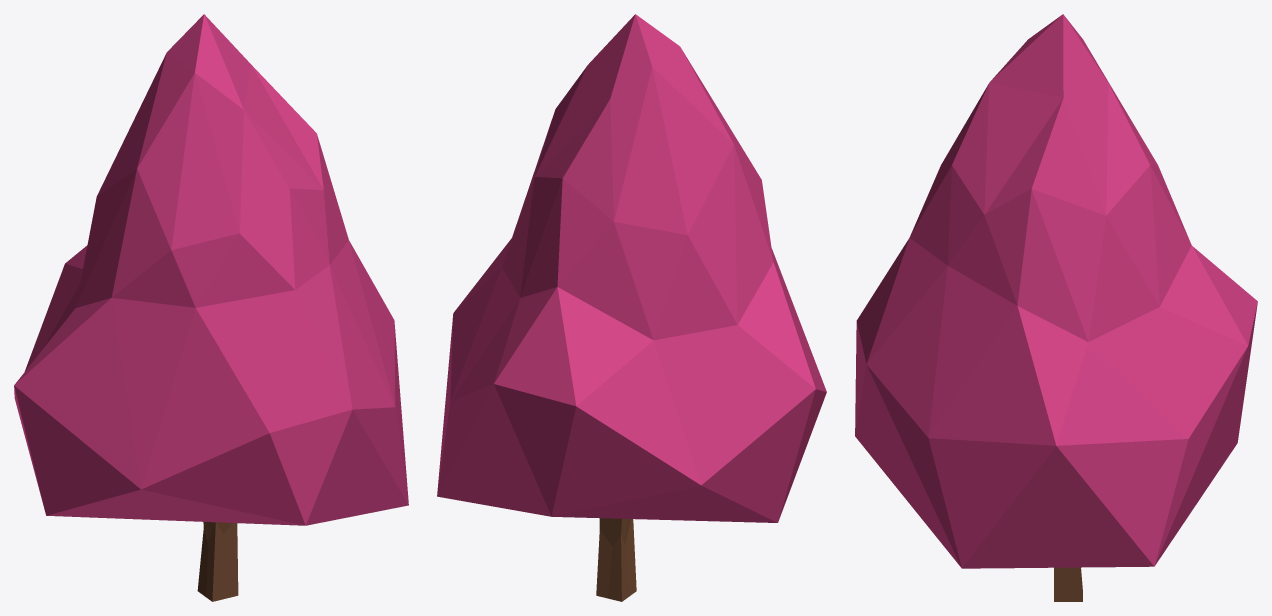
Rendered from Tree_14_Pink.fbx.
3 renders of one model, left to right at view 1: azimuth 30°, elevation 25°; view 2: azimuth 150°, elevation 25°; view 3: azimuth 270°, elevation 25°, orthographic.
Parts seen in each view (by area): view 1: Tree_14_Pink_Part_1, Tree_14_Pink_Part_2; view 2: Tree_14_Pink_Part_1, Tree_14_Pink_Part_2; view 3: Tree_14_Pink_Part_1, Tree_14_Pink_Part_2.
Boxes of the visible parts, box(x1,y1,x2,y2) form: Tree_14_Pink_Part_1: box(14, 14, 408, 525); Tree_14_Pink_Part_2: box(197, 522, 238, 601); Tree_14_Pink_Part_1: box(437, 14, 826, 522); Tree_14_Pink_Part_2: box(596, 518, 636, 601); Tree_14_Pink_Part_1: box(855, 14, 1257, 568); Tree_14_Pink_Part_2: box(1054, 567, 1082, 601).
Size of the model in its own units: 527 by 791 by 503.
